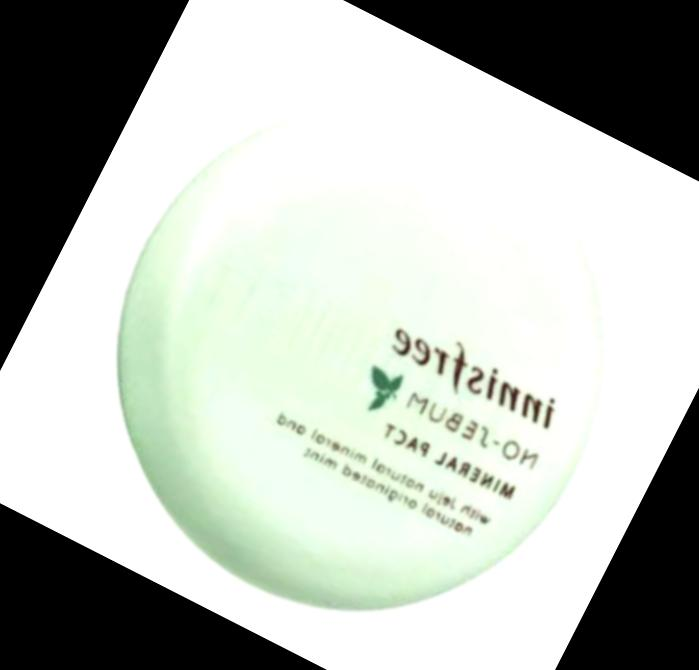cosmetic: (22, 17, 696, 670)
